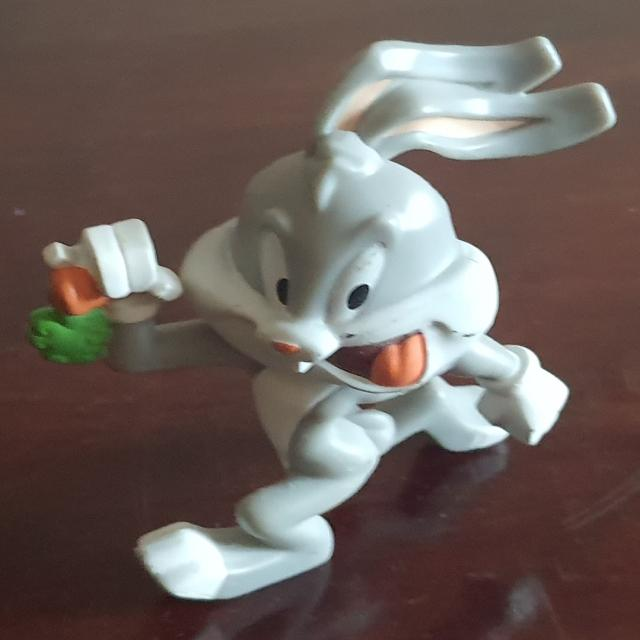Rabbit: (28, 34, 618, 602)
